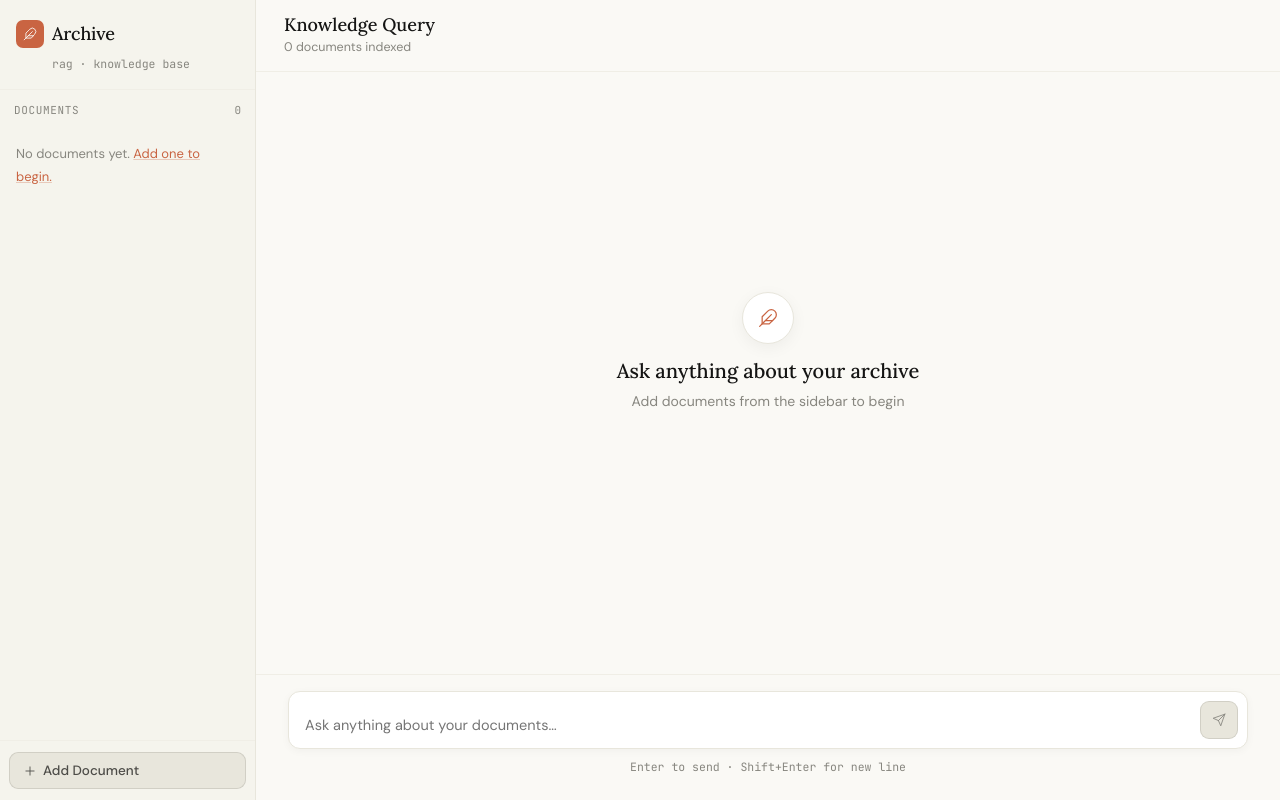
it: App › shows upload modal when "Add Document" is clicked
Click the button "Add Document": (128, 770) [10,753,245,788]
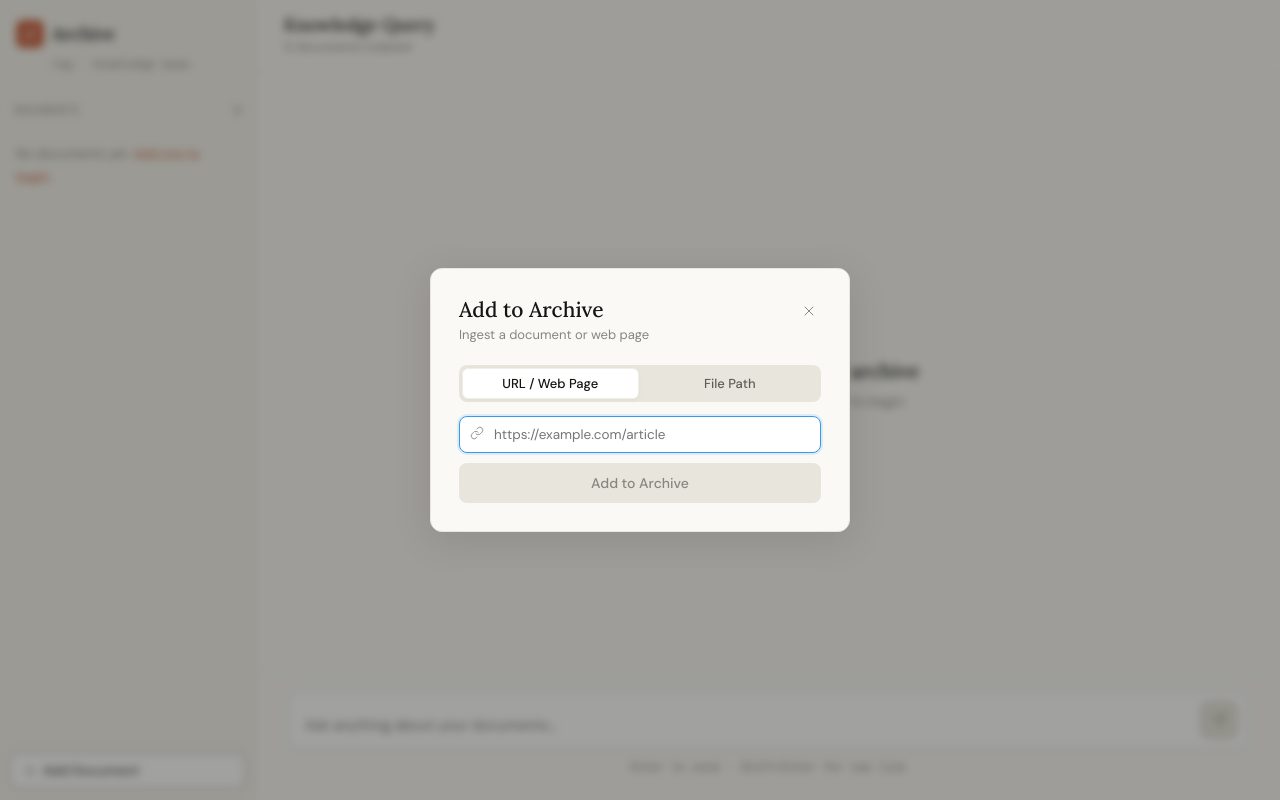
Expected: the heading "Add to Archive" is shown, [459,296,604,322]
